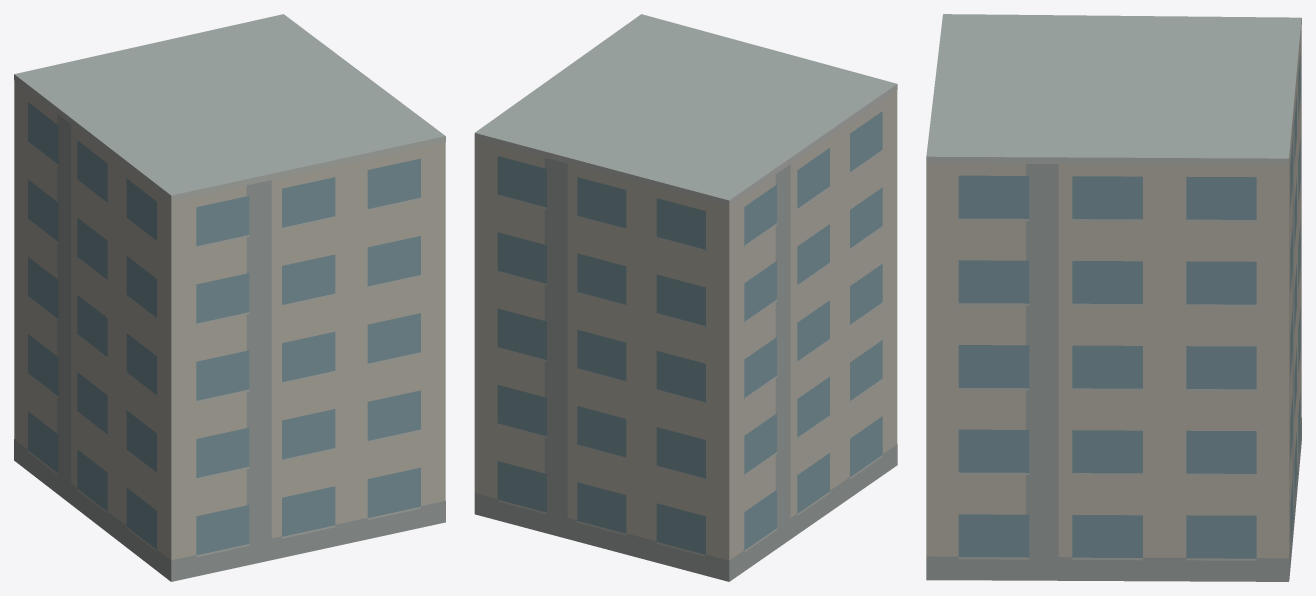
Rendered from residential-e7bdbe4e-23ce-4e4c-864a-179dfa6b33b1.glb.
The picture shows the model from 3 angles, left to right: view 1: azimuth 30°, elevation 25°; view 2: azimuth 150°, elevation 25°; view 3: azimuth 270°, elevation 25°; orthographic projection. The views are drawn at different scales.
Parts seen in each view (by area): view 1: residential-e7bdbe4e-23ce-4e4c-864a-179dfa6b33b1.tmp; view 2: residential-e7bdbe4e-23ce-4e4c-864a-179dfa6b33b1.tmp; view 3: residential-e7bdbe4e-23ce-4e4c-864a-179dfa6b33b1.tmp.
Boxes of the visible parts, x1,y1,x2,y2 form: residential-e7bdbe4e-23ce-4e4c-864a-179dfa6b33b1.tmp: [14, 14, 445, 581]; residential-e7bdbe4e-23ce-4e4c-864a-179dfa6b33b1.tmp: [474, 14, 897, 581]; residential-e7bdbe4e-23ce-4e4c-864a-179dfa6b33b1.tmp: [926, 14, 1301, 581].
Bounding box in the file's own units: 11.18 × 15.25 × 12.27.
